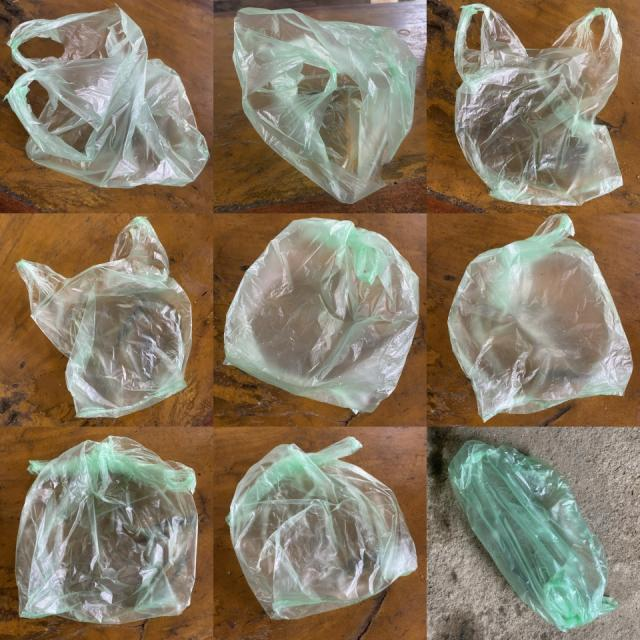Single-layer Plastic: (448, 214, 631, 421), (224, 218, 419, 412), (6, 6, 209, 187), (232, 8, 420, 203), (16, 216, 191, 418), (226, 436, 416, 619), (16, 436, 198, 623), (455, 4, 622, 205), (449, 440, 616, 631)
